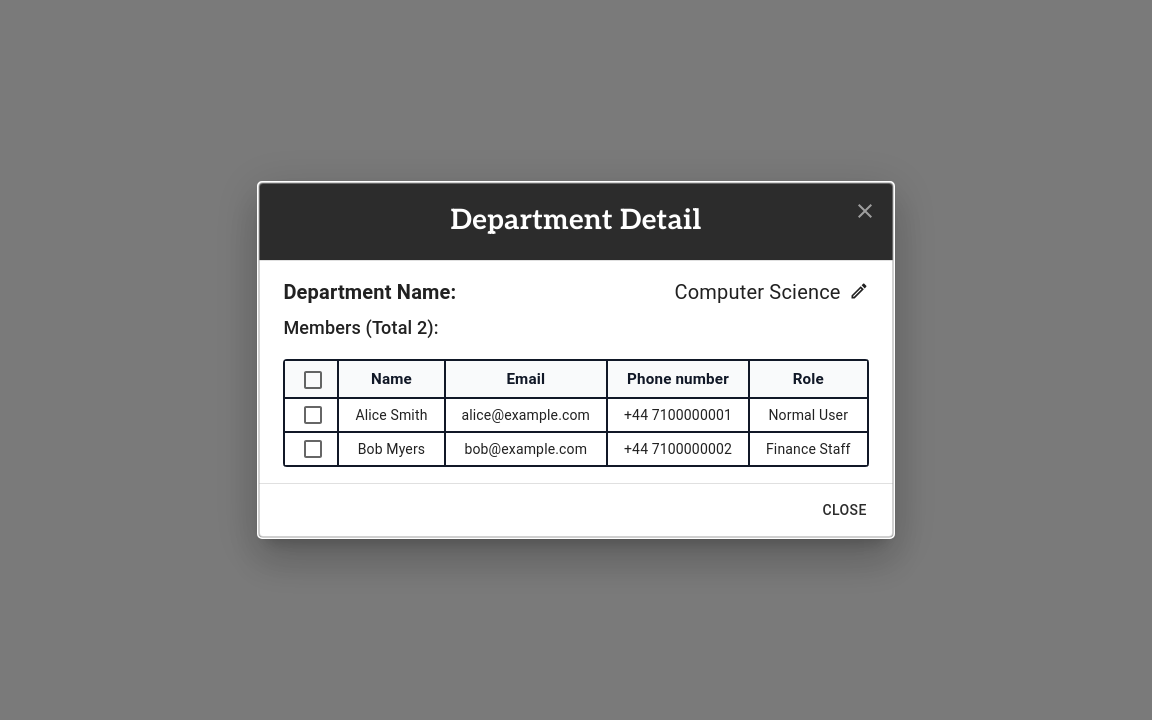
Scenario: Super-admin ViewDepartmentDialog › successful department name update shows success snackbar
Expected: the text "Alice Smith" is shown, x1=339 y1=399 x2=446 y2=433
// Click the edit icon next to the department name
Click the icon next to "Computer Science".
click(859, 291)  # box x1=849 y1=281 x2=869 y2=301
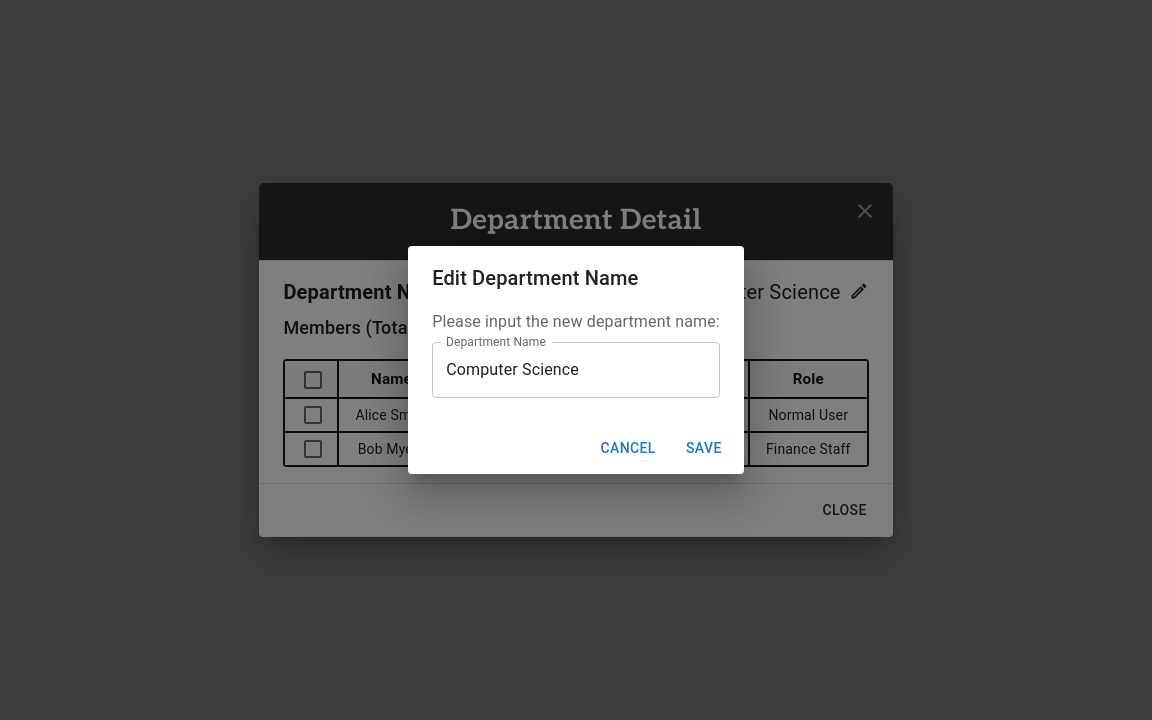
// SingleInputDialog opens — change text and confirm
Replace the text in the field labelled "Department Name" with "New CS Dept" at (576, 370), box x1=432 y1=342 x2=720 y2=398
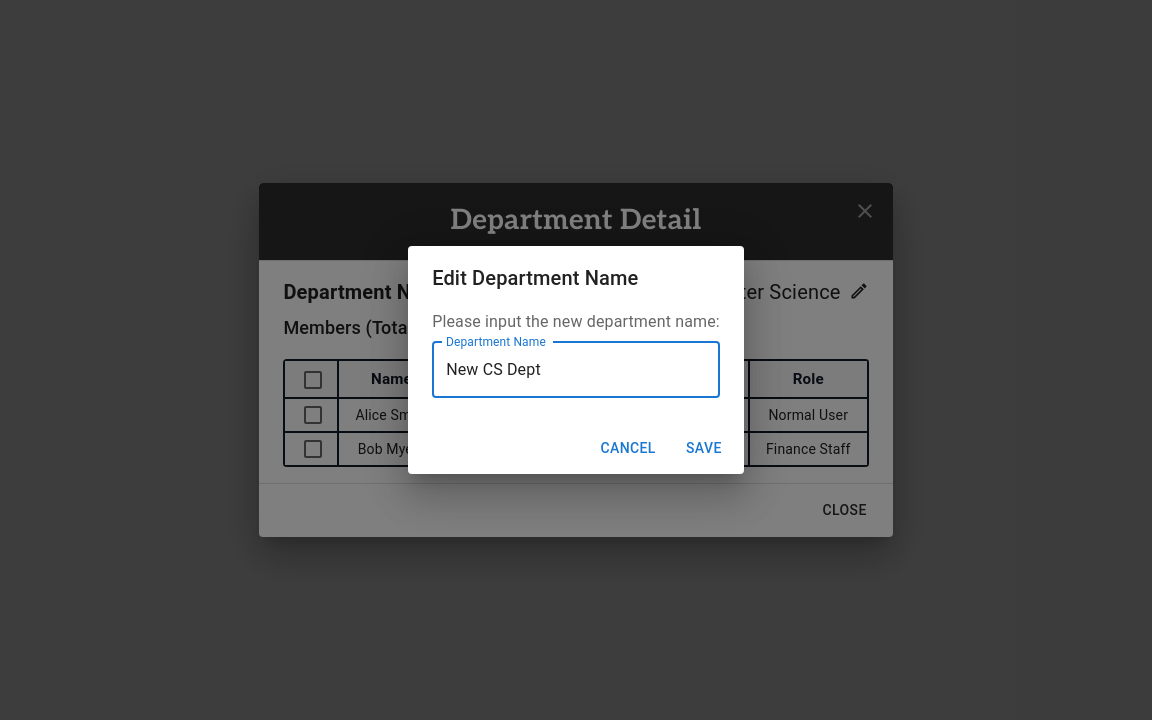
Click the button "Save".
click(704, 448)  # box x1=672 y1=430 x2=736 y2=466
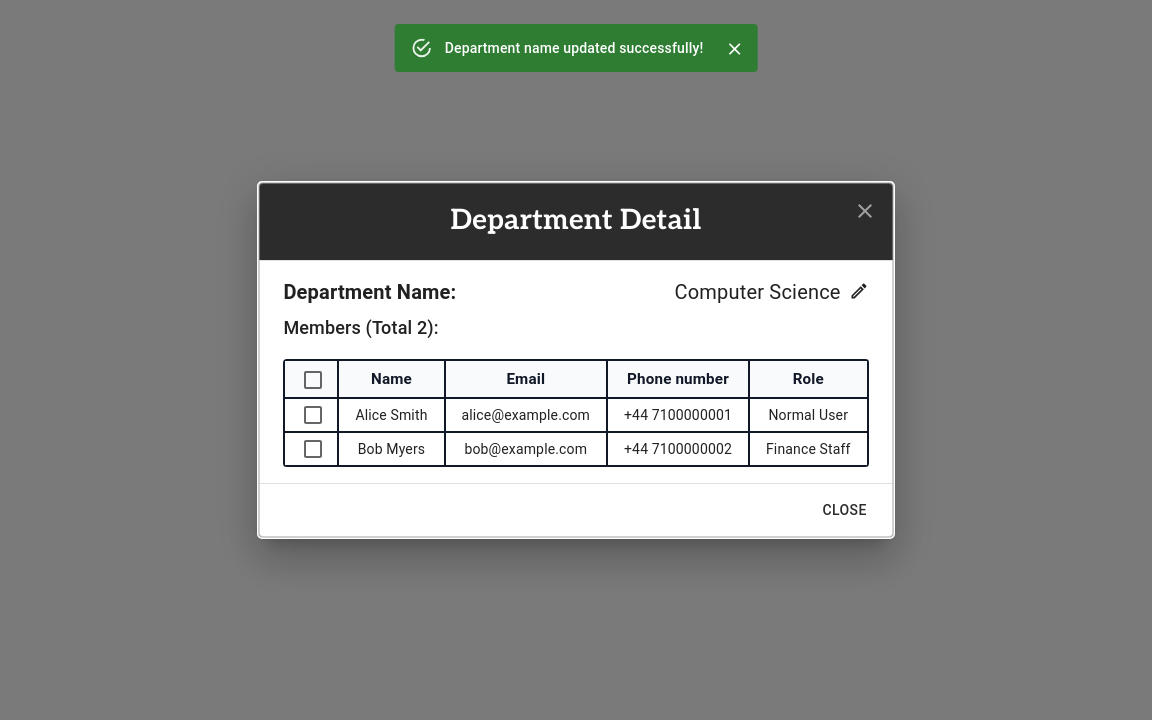
Result: the text "Department name updated successfully!" is shown at x1=445 y1=40 x2=703 y2=56
